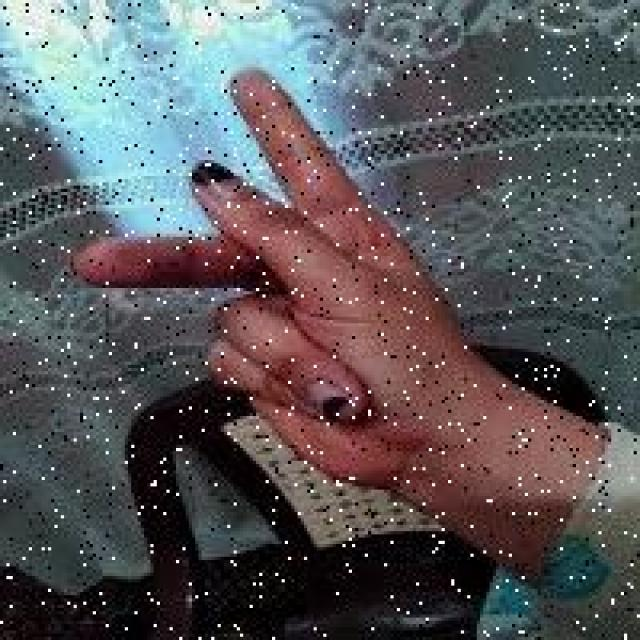K: (66, 61, 466, 515)
